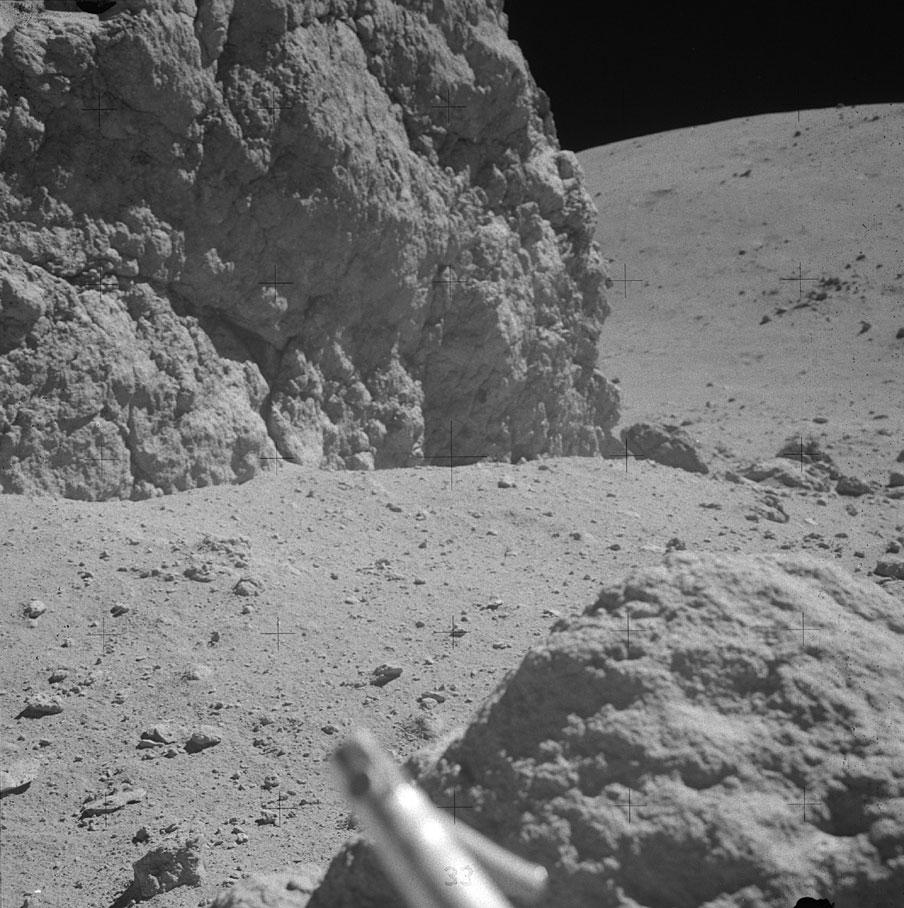rock: (410, 553, 904, 908)
